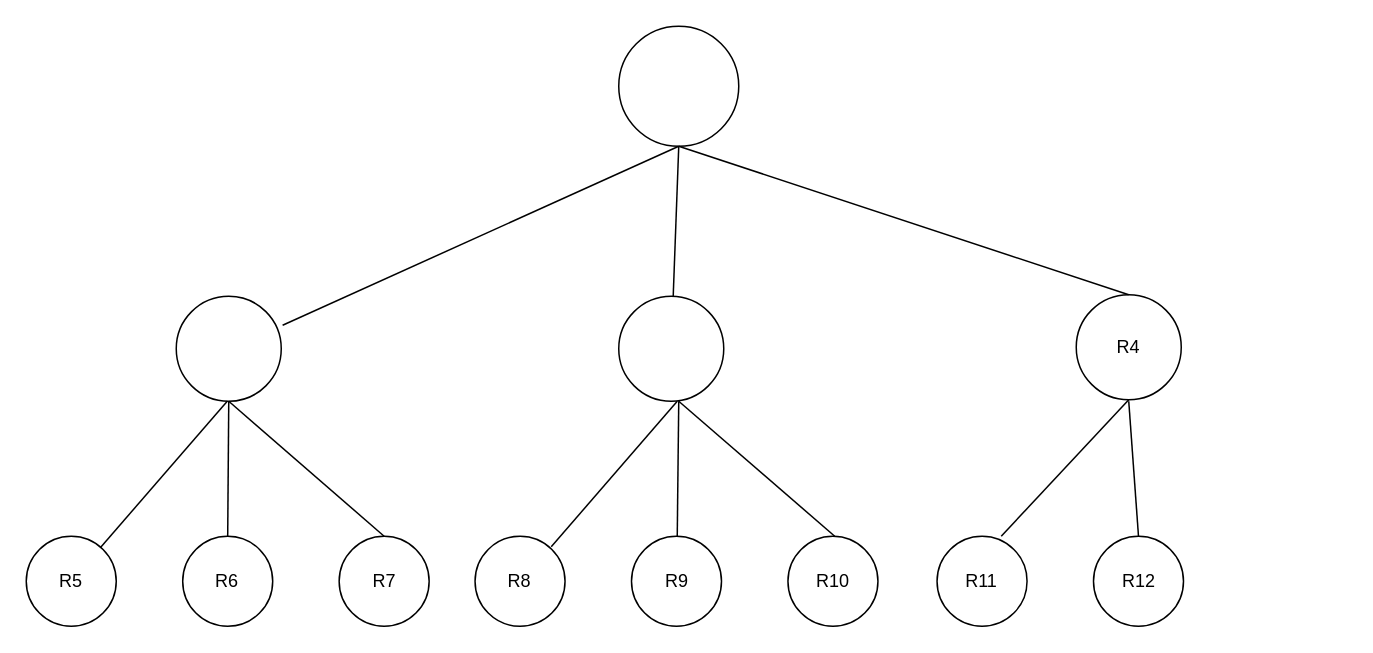
Image size: 1373x653. Some labels were removed from this diagram. Here are the shapes that lost their labels. From the top down, the box of each, then its label:
(617, 25, 739, 146): R1 Leader
(175, 295, 281, 401): R2
(617, 295, 724, 401): R3
